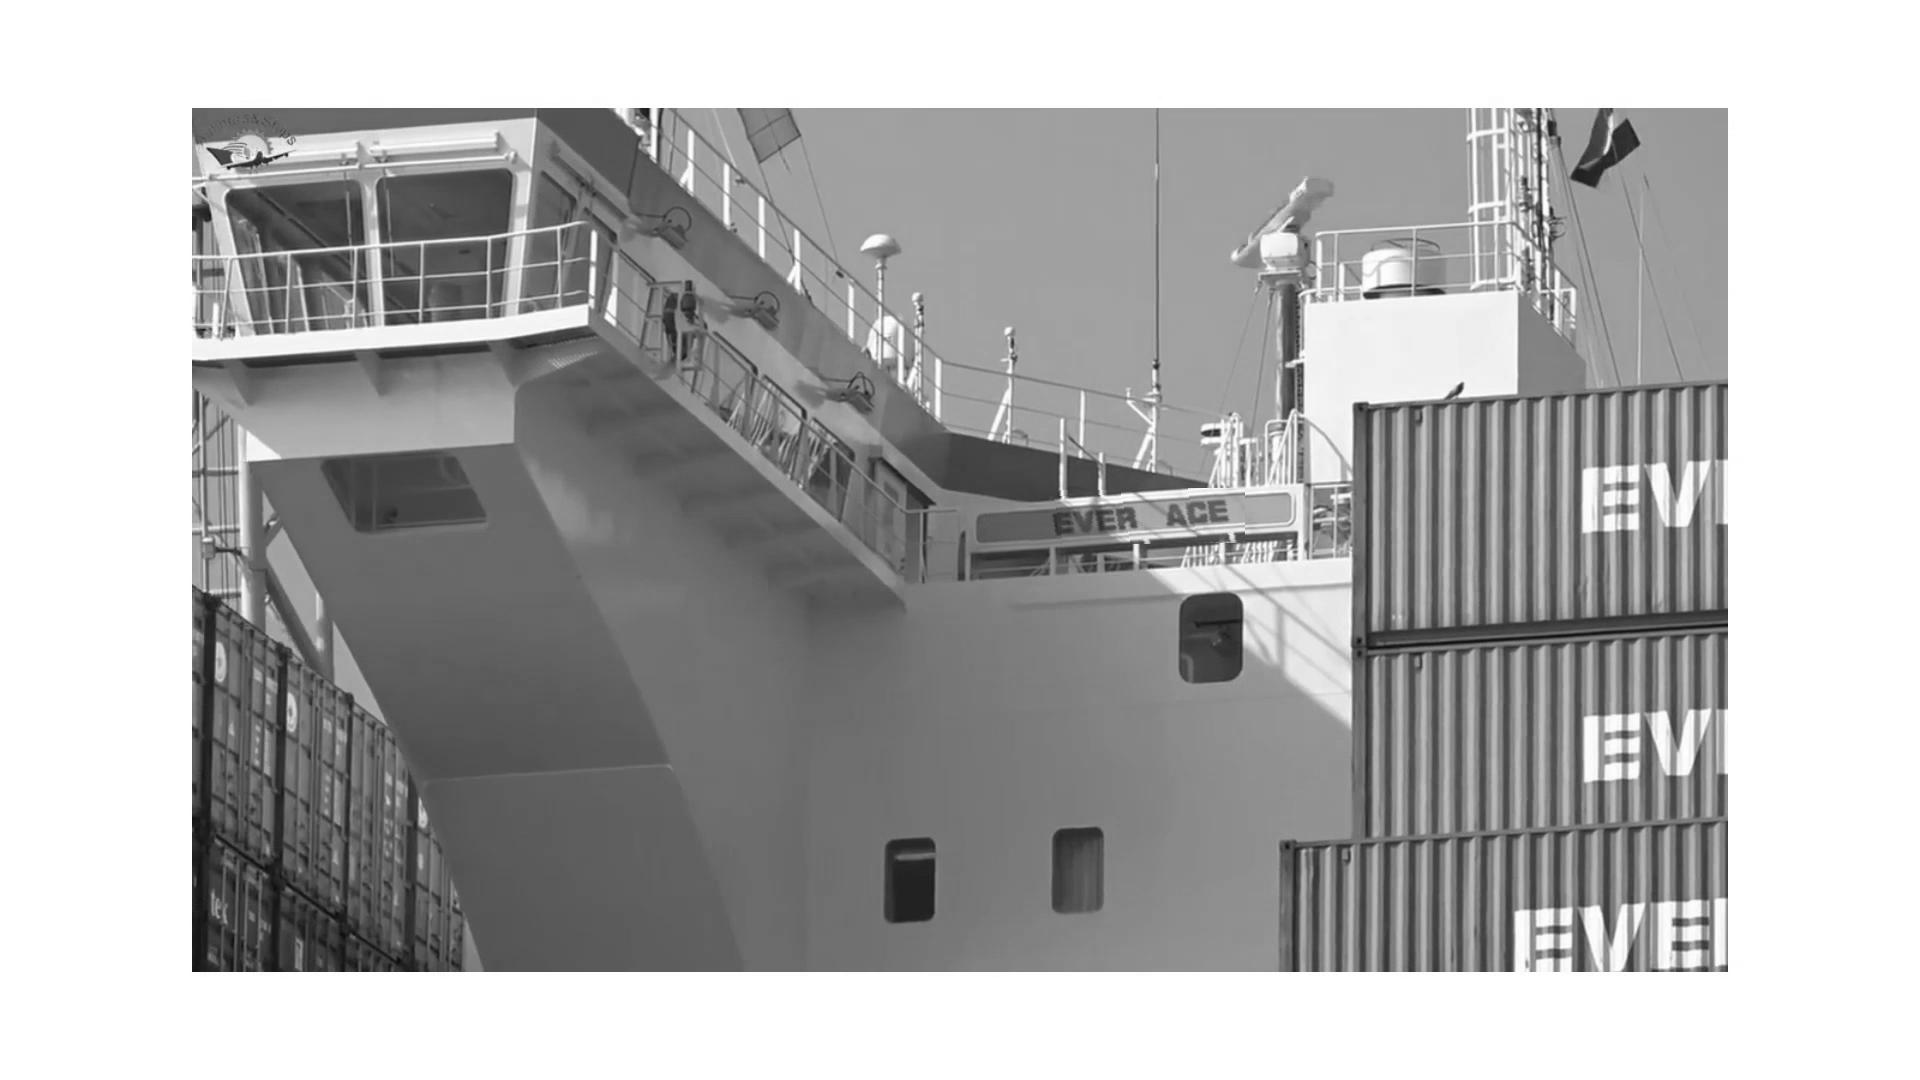OCR: (1018, 488, 1245, 546)
